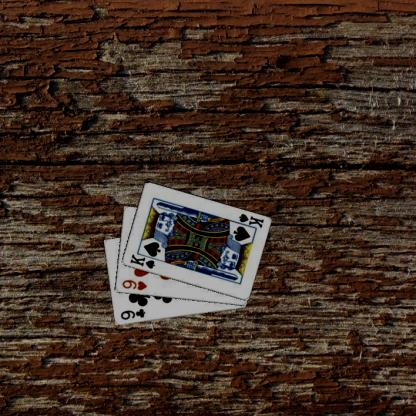9C: (118, 306, 146, 322)
9H: (119, 277, 148, 292)
KS: (232, 211, 264, 231), (128, 252, 156, 270)
